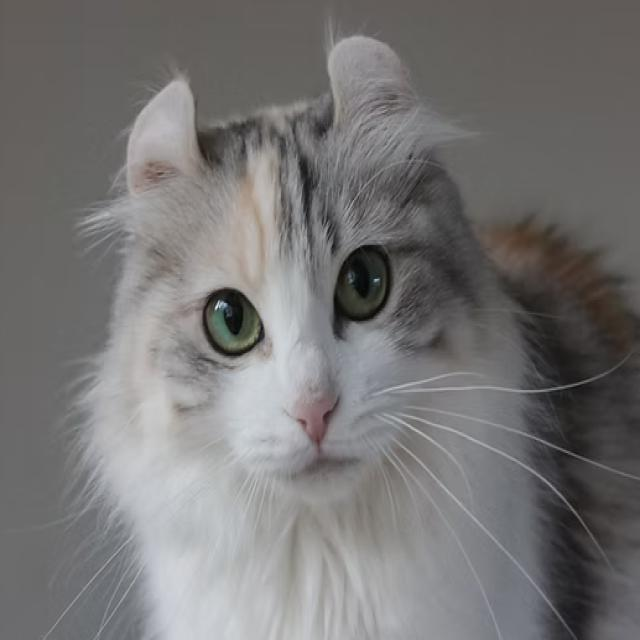American Curl: (75, 24, 640, 640)
